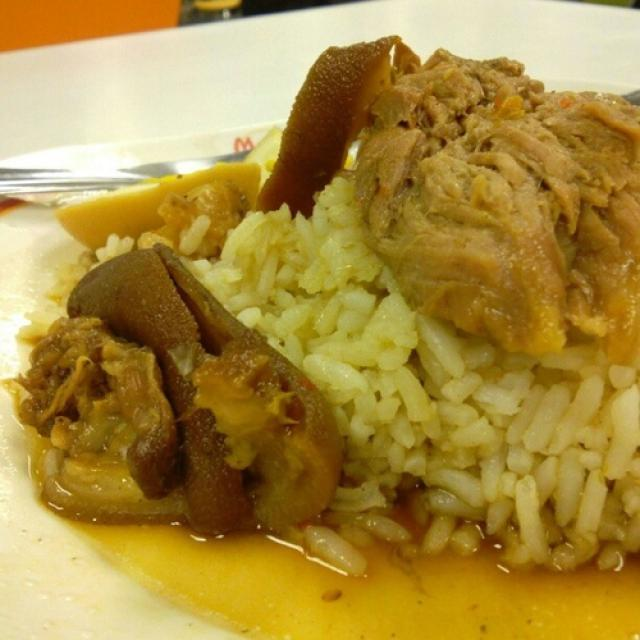猪肉菜式: (13, 34, 637, 588)
